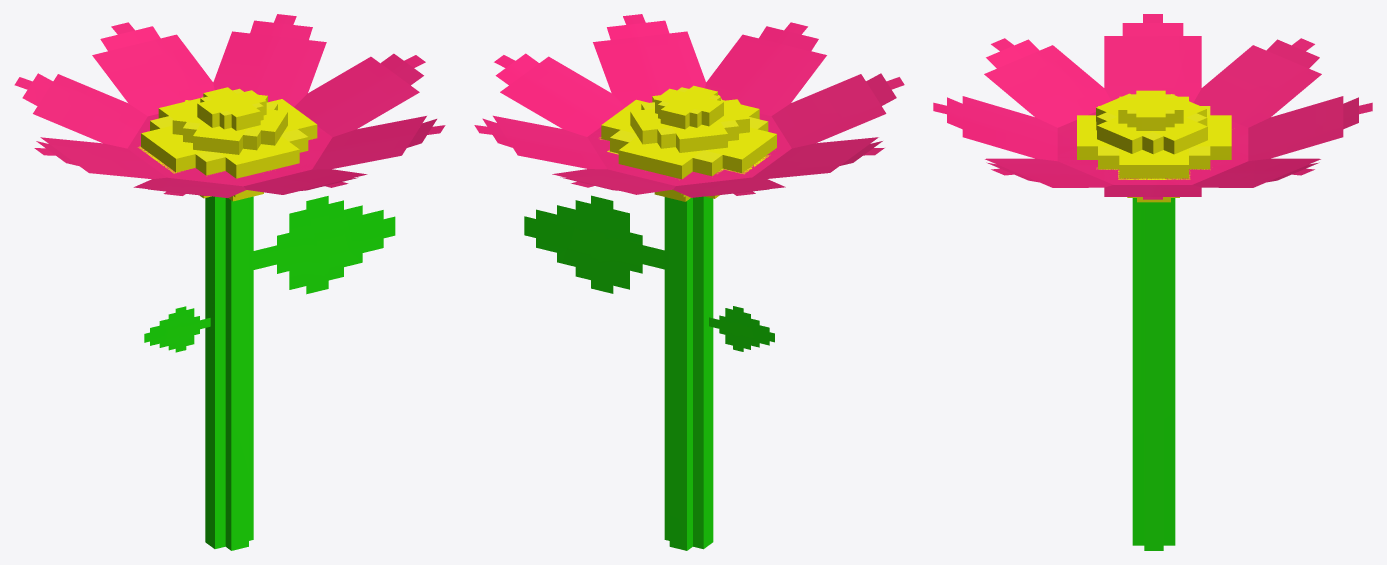
The model's file is flower1.glb.
3 views of the same model, side by side, from view 1: azimuth 30°, elevation 25°; view 2: azimuth 150°, elevation 25°; view 3: azimuth 270°, elevation 25° (orthographic).
Visible parts, largest first — view 1: geometry_0; view 2: geometry_0; view 3: geometry_0.
Part boxes in pixels (x1=…): geometry_0: x1=14, y1=14, x2=445, y2=550; geometry_0: x1=474, y1=14, x2=904, y2=550; geometry_0: x1=933, y1=14, x2=1372, y2=550.
Bounding box in the file's own units: 0.6214 × 0.6834 × 0.6214.
1 material, 1 textured.
